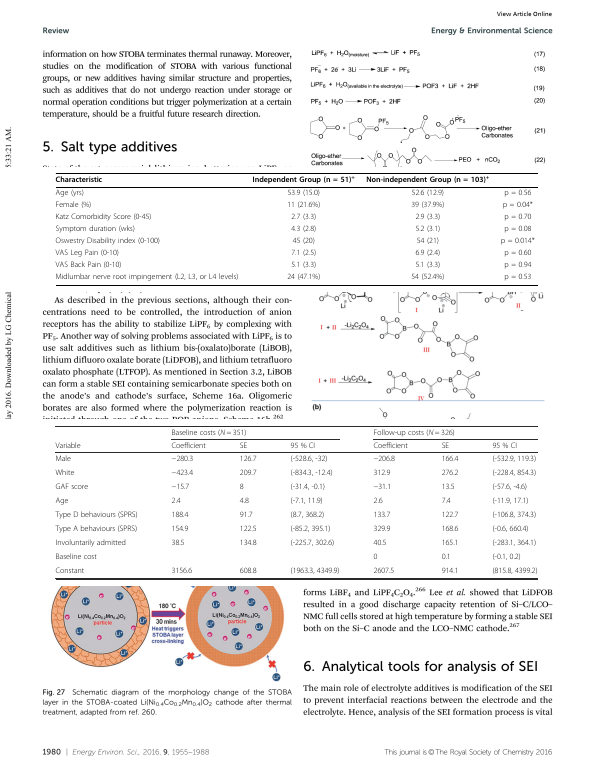borderless: (54, 424, 537, 578), (54, 172, 538, 285)
cell: (55, 273, 239, 282), (365, 174, 490, 185), (252, 174, 356, 185), (55, 237, 161, 247), (55, 213, 152, 223), (54, 510, 138, 520), (54, 524, 138, 534), (55, 225, 136, 235), (372, 428, 456, 437), (54, 538, 127, 548), (171, 428, 247, 437), (55, 261, 122, 270), (55, 249, 120, 258), (290, 566, 340, 576), (491, 566, 538, 576), (491, 454, 537, 464), (491, 468, 537, 478), (491, 510, 537, 520), (491, 538, 537, 548), (290, 538, 335, 548), (54, 552, 98, 562), (55, 176, 103, 185), (290, 468, 333, 478), (290, 524, 331, 534), (290, 454, 328, 464), (491, 496, 529, 506), (491, 524, 529, 534), (55, 201, 92, 211), (372, 441, 409, 451), (491, 482, 528, 492), (500, 237, 536, 247), (171, 441, 207, 451), (290, 482, 326, 492), (286, 189, 321, 199), (286, 201, 321, 211), (410, 201, 445, 211), (54, 482, 89, 492), (290, 510, 325, 520), (411, 189, 445, 199), (290, 496, 324, 506), (502, 201, 534, 211), (286, 273, 321, 282), (410, 273, 445, 282), (491, 552, 522, 562), (54, 566, 85, 576), (55, 189, 85, 199), (503, 189, 532, 199), (503, 213, 532, 223), (503, 225, 532, 235), (290, 213, 317, 223), (414, 213, 441, 223), (290, 225, 317, 235), (414, 225, 441, 235), (54, 441, 81, 451), (491, 441, 518, 451), (503, 249, 532, 258), (503, 261, 532, 270), (503, 273, 532, 282), (290, 441, 316, 451), (290, 249, 317, 258), (414, 249, 441, 258), (290, 261, 317, 270), (414, 261, 441, 270), (292, 237, 316, 247), (416, 237, 440, 247), (372, 454, 396, 464), (171, 454, 194, 464), (171, 468, 194, 478), (372, 566, 395, 576), (171, 566, 193, 576), (54, 468, 75, 478), (372, 482, 392, 492), (372, 468, 391, 478), (171, 482, 190, 492), (372, 510, 391, 520), (372, 524, 391, 534), (54, 454, 72, 464), (239, 454, 257, 464), (441, 454, 459, 464), (239, 468, 257, 478), (441, 468, 459, 478), (171, 510, 189, 520), (441, 510, 459, 520), (171, 524, 189, 534), (239, 524, 257, 534), (441, 524, 459, 534), (239, 538, 257, 548), (441, 538, 459, 548), (239, 566, 257, 576), (441, 566, 459, 576), (54, 496, 69, 506), (239, 510, 254, 520), (372, 538, 387, 548), (441, 482, 455, 492), (171, 538, 185, 548), (171, 496, 182, 506), (239, 496, 250, 506), (372, 496, 383, 506), (441, 496, 452, 506), (441, 552, 452, 562), (239, 441, 248, 451), (441, 441, 450, 451), (239, 482, 245, 492), (372, 552, 378, 562)
